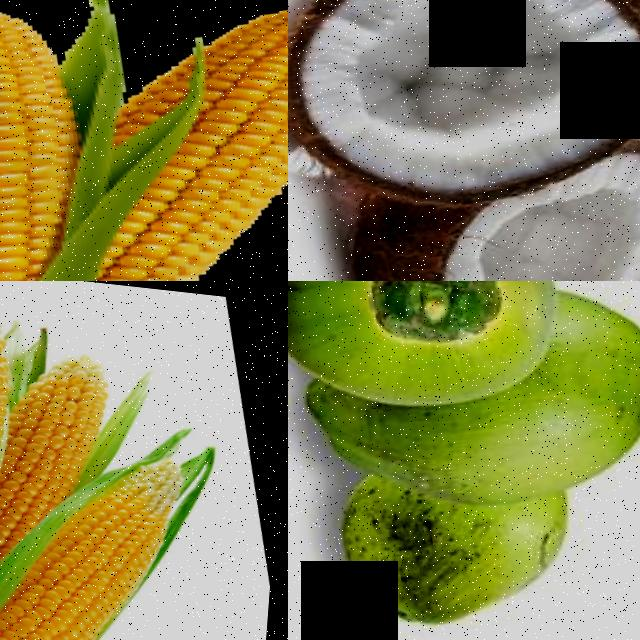coconut: (288, 0, 640, 240), (294, 320, 640, 550), (326, 462, 598, 640), (341, 145, 640, 281), (288, 281, 586, 412)
corn: (93, 0, 288, 256), (0, 441, 220, 640), (0, 0, 155, 281), (0, 319, 143, 515), (0, 301, 53, 592)
